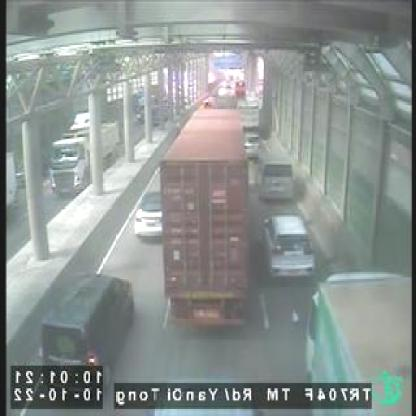Car: (39, 272, 136, 377), (261, 210, 317, 282), (257, 147, 298, 203), (132, 190, 163, 240)
Truck: (161, 109, 249, 332), (48, 110, 121, 196)
